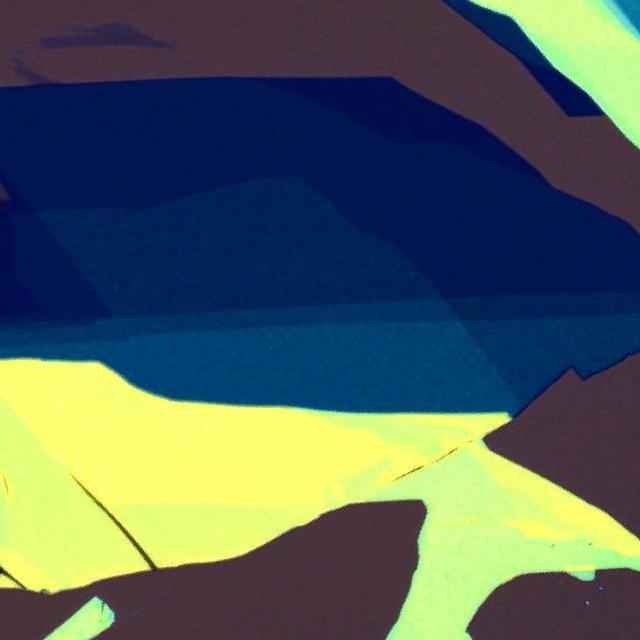monolayer-eWW4: (38, 15, 160, 54)
